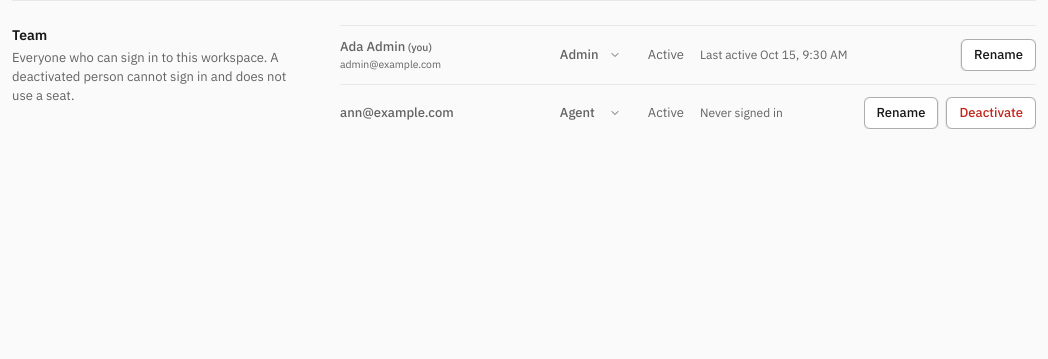
the question is visible text and keyboard focus moves into it
Step 1. Click the button with aria-label "Deactivate ann@example.com" → (991, 113), box [946, 97, 1036, 129]
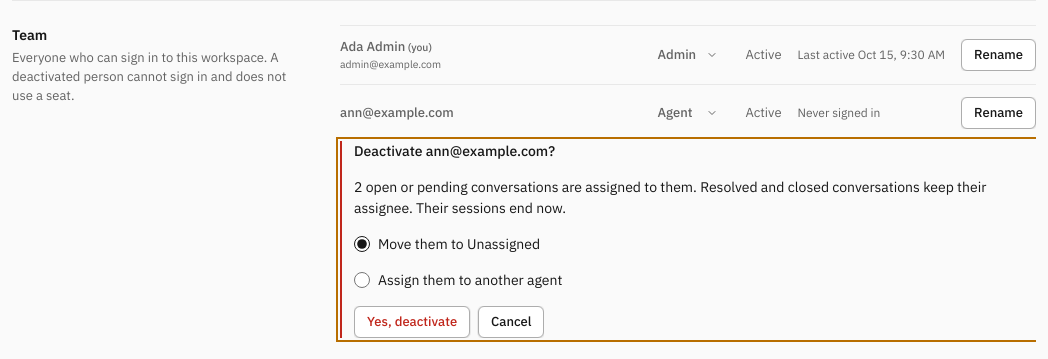
Check: the text "Deactivate ann@example.com?" is shown, box [354, 141, 555, 161]
